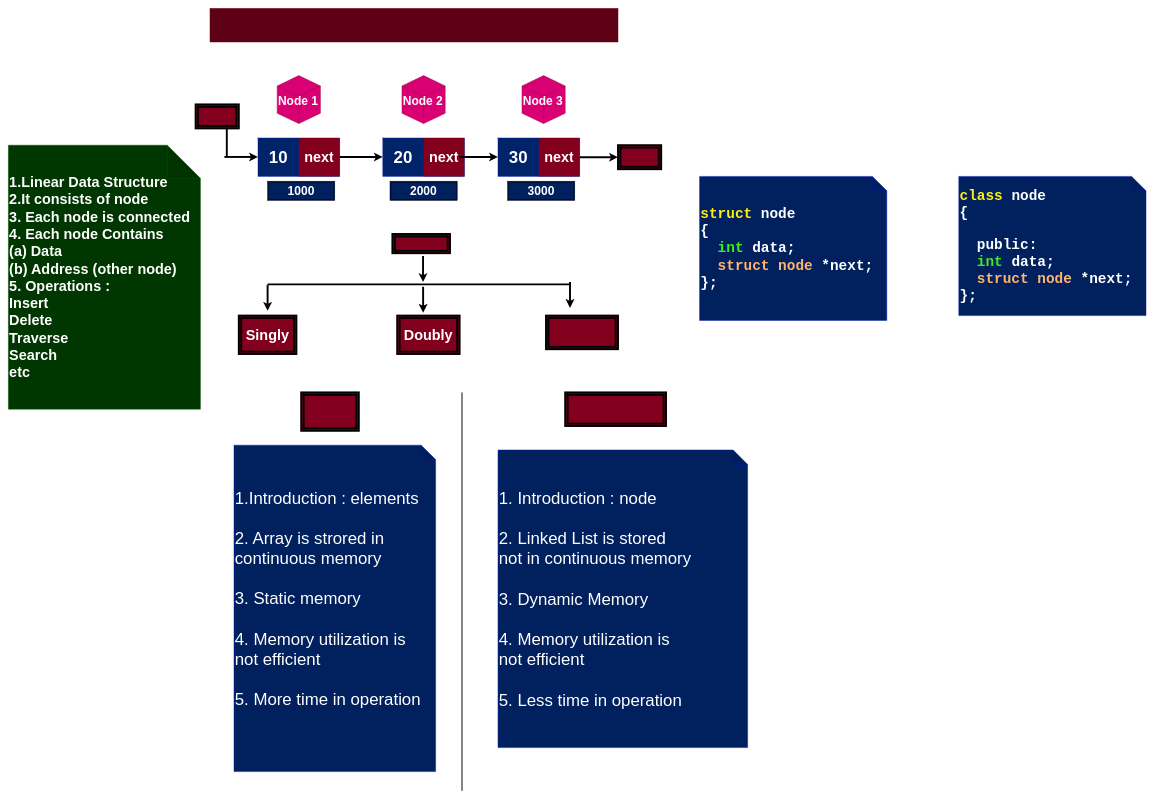
The diagram is 1154 pixels wide and 800 high, and some of its shapes have lost their labels. The shapes that lost their labels are listed below. From the top down, each one's centre as x and y in pixels, then its label:
At (x=414, y=25): "Data Structure & Algorithm | Linked List".
At (x=217, y=116): "Head".
At (x=639, y=157): "NULL".
At (x=421, y=243): "Types".
At (x=582, y=332): "Circular".
At (x=330, y=411): "Array".
At (x=615, y=409): "Linked List".
